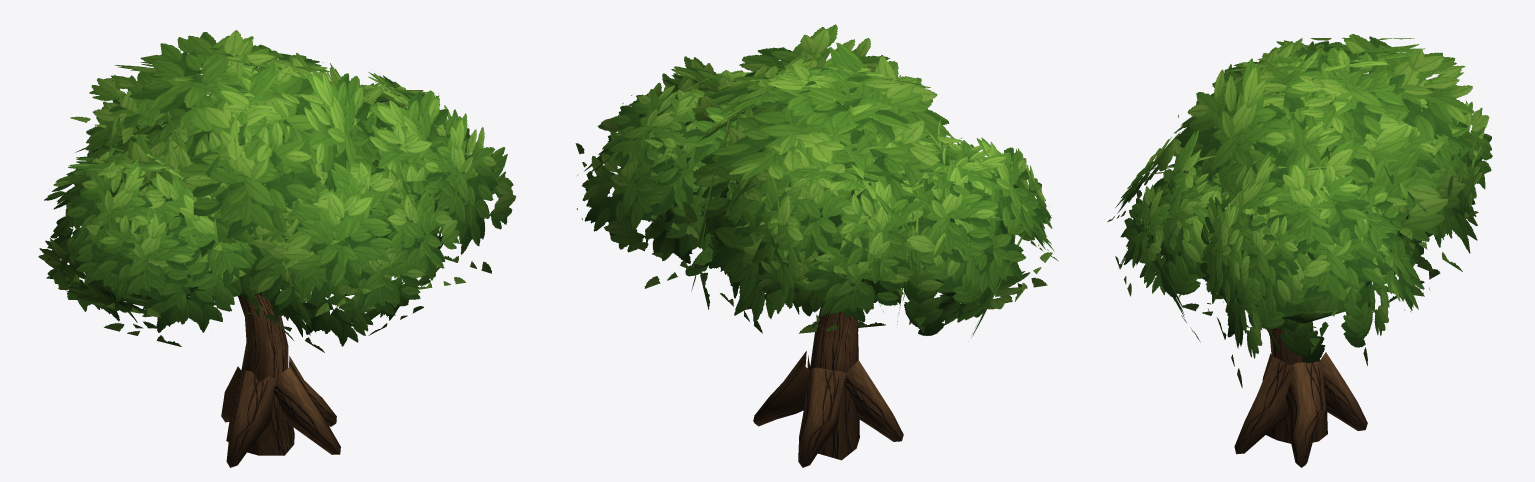
File: tree_green_c.glb
3 views of the same model, side by side, from view 1: azimuth 30°, elevation 25°; view 2: azimuth 150°, elevation 25°; view 3: azimuth 270°, elevation 25° (orthographic). The views are drawn at different scales.
Visible parts, largest first — view 1: tree_green_c; view 2: tree_green_c; view 3: tree_green_c.
Boxes of the visible parts, box(x1,y1,x2,y2) form: tree_green_c: box(38, 30, 516, 467); tree_green_c: box(575, 24, 1058, 467); tree_green_c: box(1107, 34, 1492, 467).
Size of the model in its own units: 4.05 by 3.32 by 3.13.
Materials: 2 (2 with a texture image).
